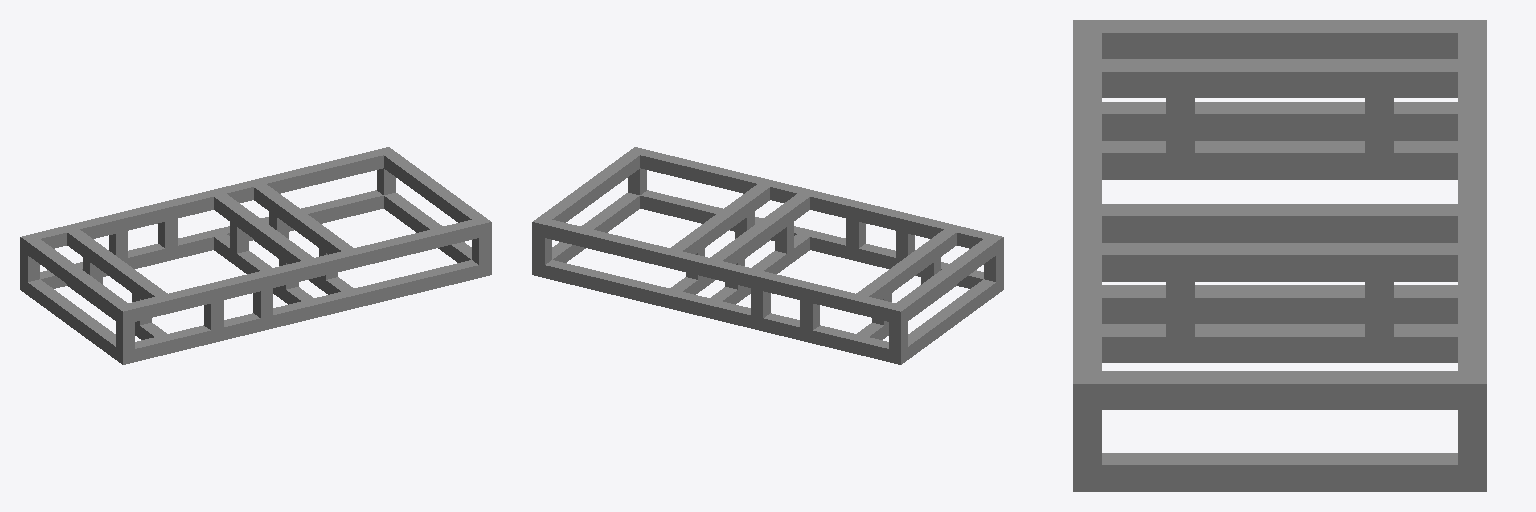
robot.urdf — my_rover:
<?xml version="1.0" ?>
<!-- =================================================================================== -->
<!-- |    This document was autogenerated by xacro from src/my_rover_description/urdf/robot.urdf.xacro | -->
<!-- |    EDITING THIS FILE BY HAND IS NOT RECOMMENDED                                 | -->
<!-- =================================================================================== -->
<robot name="my_rover">
  <material name="gray">
    <color rgba="0.6 0.6 0.6 1.0"/>
  </material>
  <material name="black">
    <color rgba="0.1 0.1 0.1 1.0"/>
  </material>
  <link name="base_link">
    <visual>
      <origin rpy="0 0 0" xyz="0 0 0"/>
      <geometry>
        <mesh filename="package://my_rover_description/meshes/visual/base_link.stl" scale="0.001 0.001 0.001"/>
      </geometry>
      <material name="gray"/>
    </visual>
    <collision>
      <origin rpy="0 0 0" xyz="0 0 0"/>
      <geometry>
        <mesh filename="package://my_rover_description/meshes/visual/base_link.stl" scale="0.001 0.001 0.001"/>
      </geometry>
    </collision>
    <inertial>
      <origin xyz="0 0 0"/>
      <mass value="1.0"/>
      <inertia ixx="1.0" ixy="0.0" ixz="0.0" iyy="1.0" iyz="0.0" izz="1.0"/>
    </inertial>
  </link>
</robot>

--- Render facts (derived) ---
3 views of the same robot in one strip: view 1: azimuth 30°, elevation 25°; view 2: azimuth 150°, elevation 25°; view 3: azimuth 270°, elevation 25° (orthographic).
Model my_rover with 1 links and 0 joints (none), rooted at base_link, posed every joint at zero.
Links seen in each view (by area): view 1: base_link; view 2: base_link; view 3: base_link.
Boxes of the visible links, <box> form: base_link: <box>20,147,491,364</box>; base_link: <box>532,147,1003,364</box>; base_link: <box>1073,20,1486,491</box>.
Bounding box of the posed robot: 0.587 × 0.2826 × 0.0813 m (x, y, z).
Meshes: 1 distinct files referenced, 1 mesh visuals loaded (1 binary STL).
